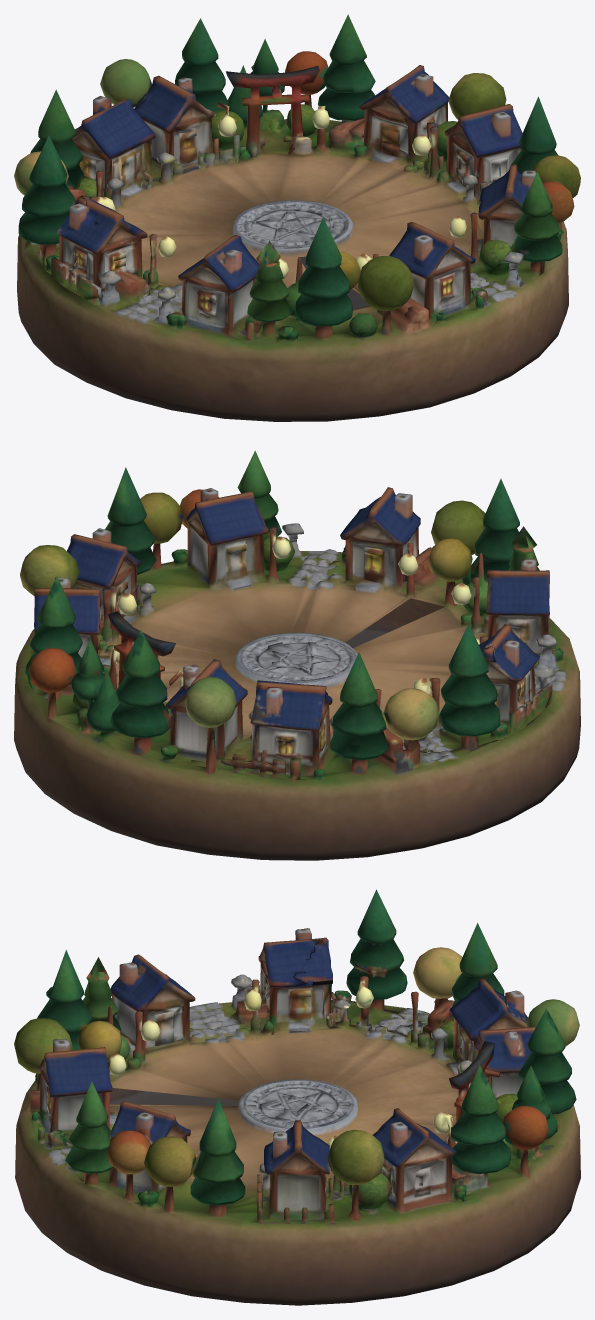
Rendered from plaza.glb.
The picture shows the model from 3 angles, top to bottom: view 1: azimuth 30°, elevation 25°; view 2: azimuth 150°, elevation 25°; view 3: azimuth 270°, elevation 25°; orthographic projection. The views are drawn at different scales.
Visible parts, largest first — view 1: tripo_node_7b6ac6b7-8de1-4926-b17d-c3dd700c6fc9; view 2: tripo_node_7b6ac6b7-8de1-4926-b17d-c3dd700c6fc9; view 3: tripo_node_7b6ac6b7-8de1-4926-b17d-c3dd700c6fc9.
Boxes of the visible parts, box(x1,y1,x2,y2) form: tripo_node_7b6ac6b7-8de1-4926-b17d-c3dd700c6fc9: box(14, 14, 580, 421); tripo_node_7b6ac6b7-8de1-4926-b17d-c3dd700c6fc9: box(14, 450, 580, 860); tripo_node_7b6ac6b7-8de1-4926-b17d-c3dd700c6fc9: box(14, 889, 580, 1305).
Size of the model in its own units: 0.9738 by 0.3807 by 0.9757.
Materials: 1 (1 with a texture image).
